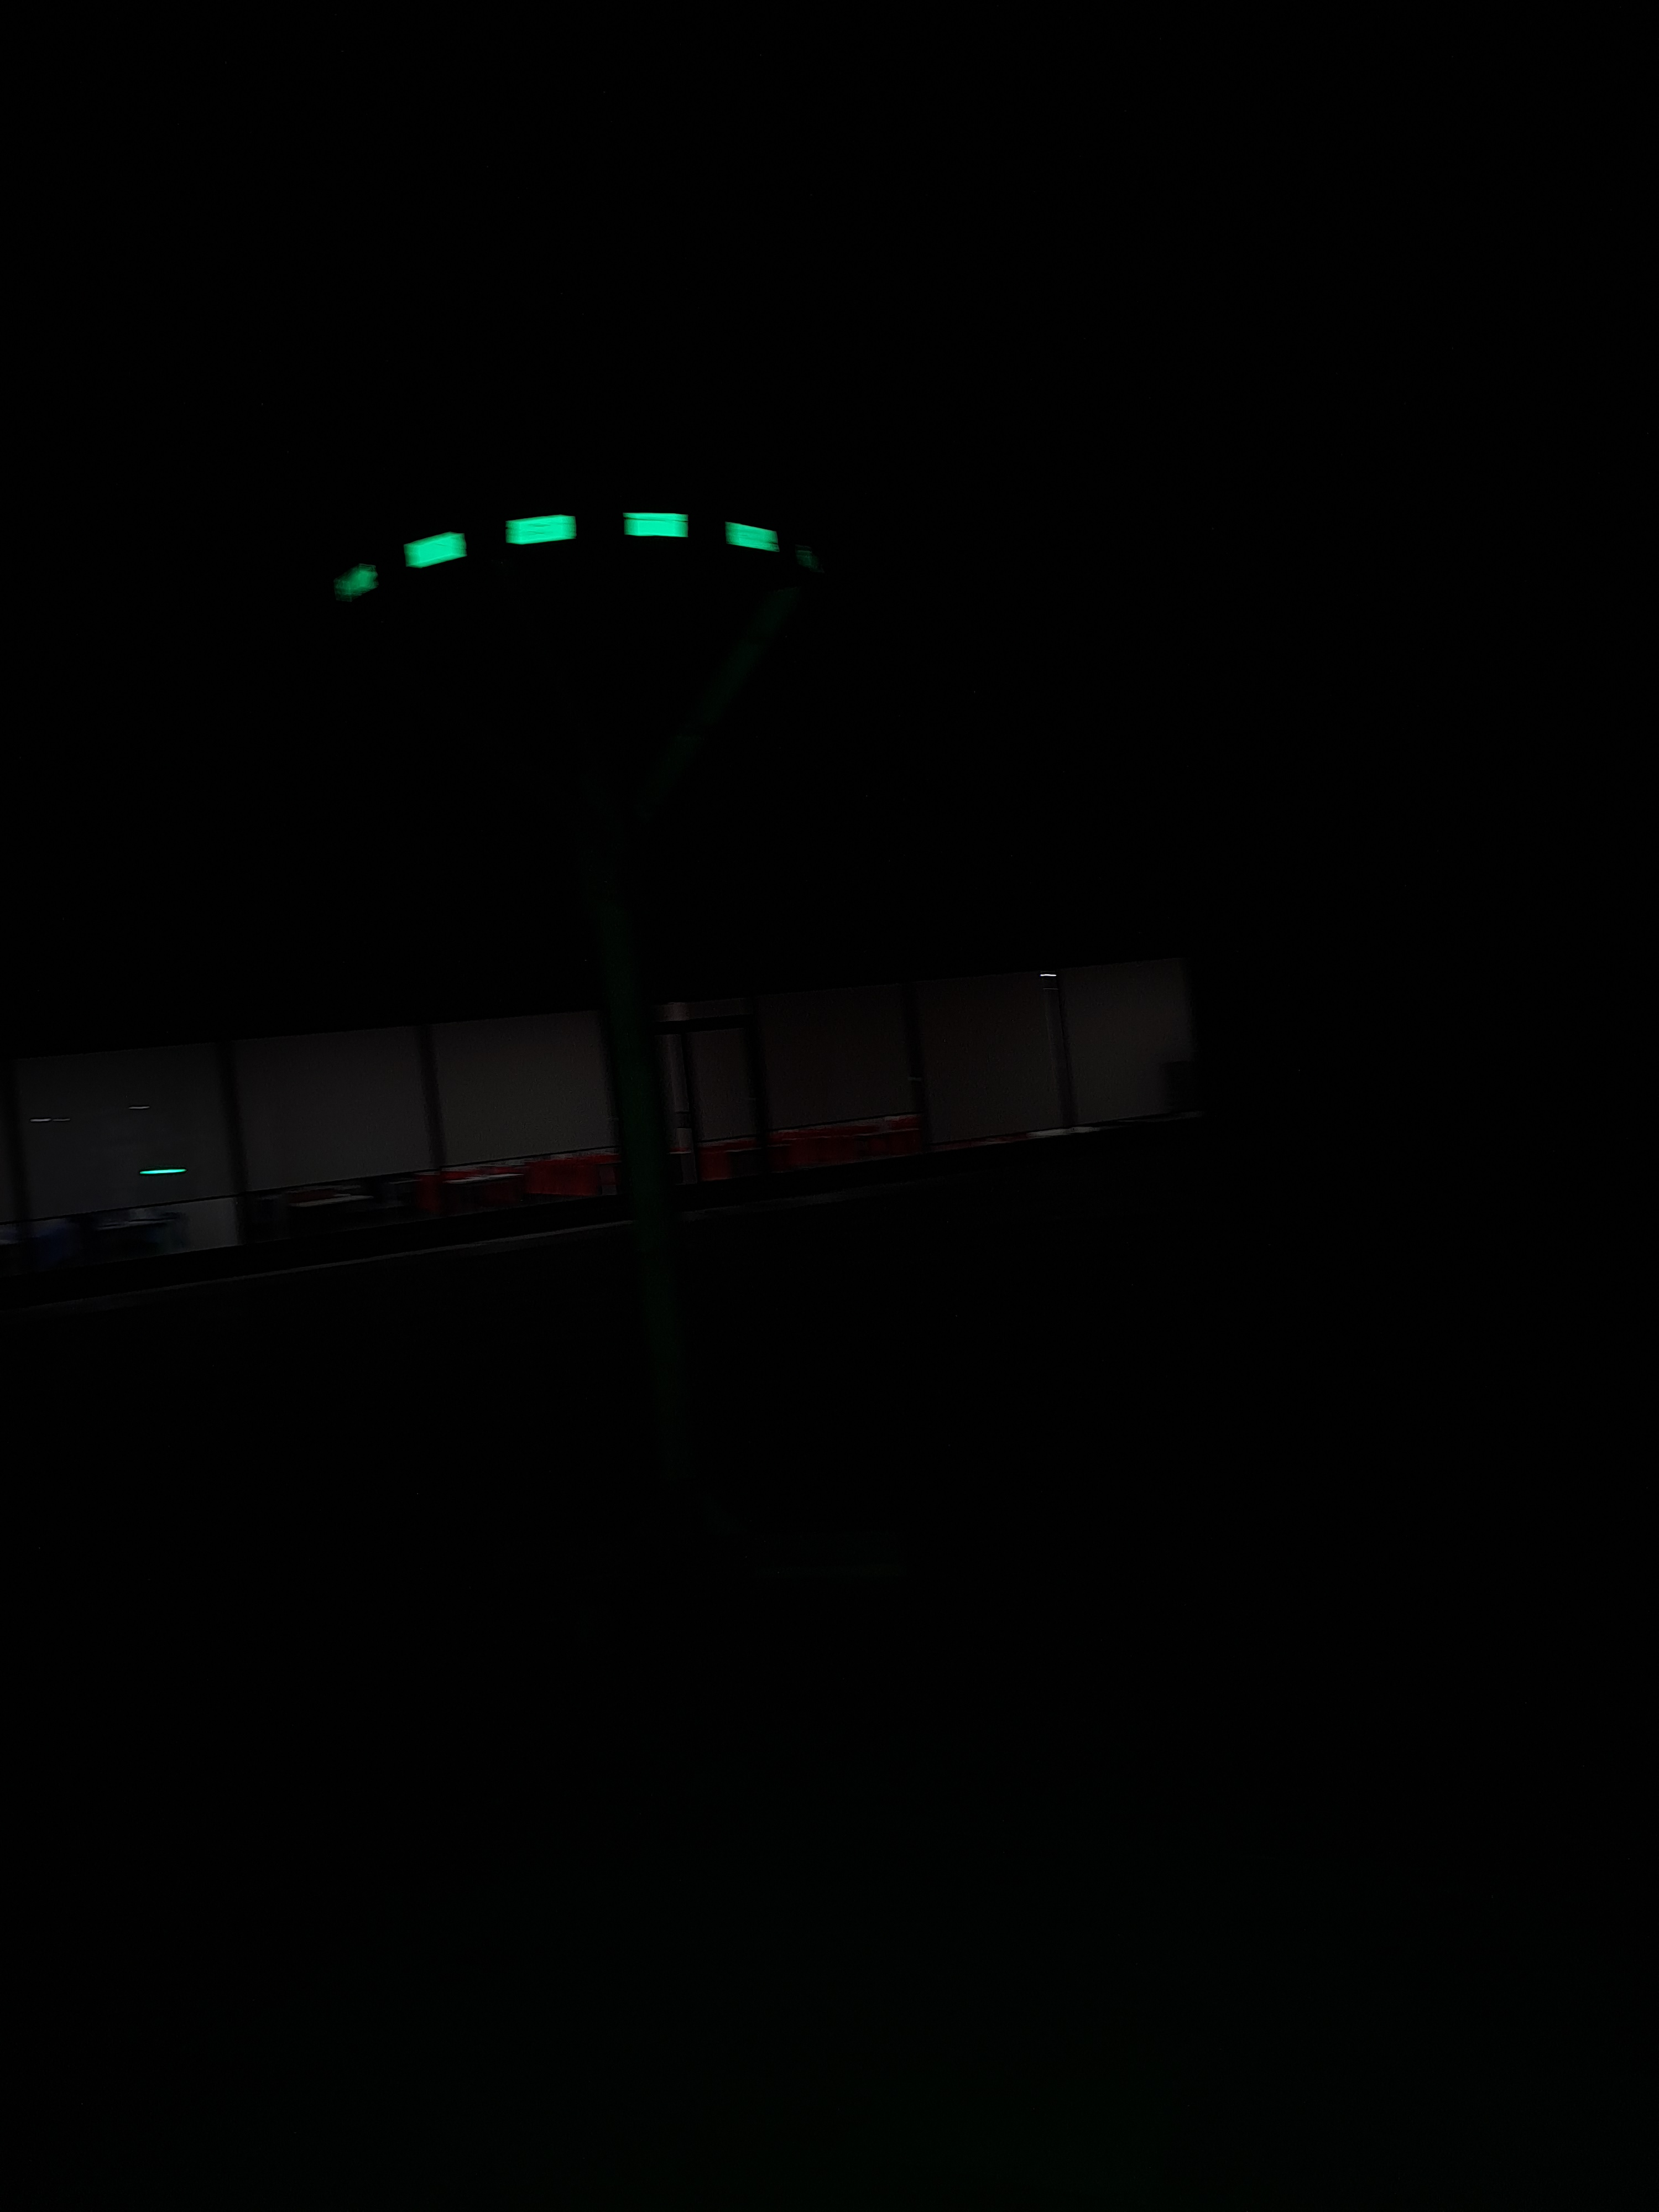hoop: (331, 507, 786, 604)
